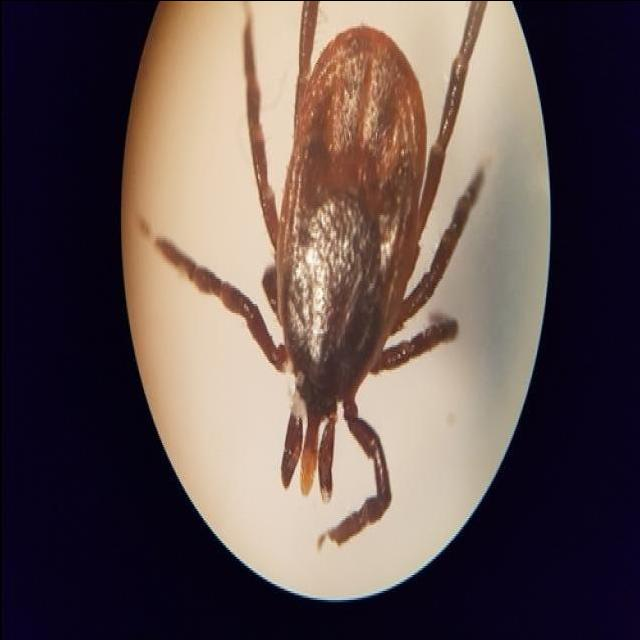Ixodes Ricinus-F: (152, 0, 485, 549)
